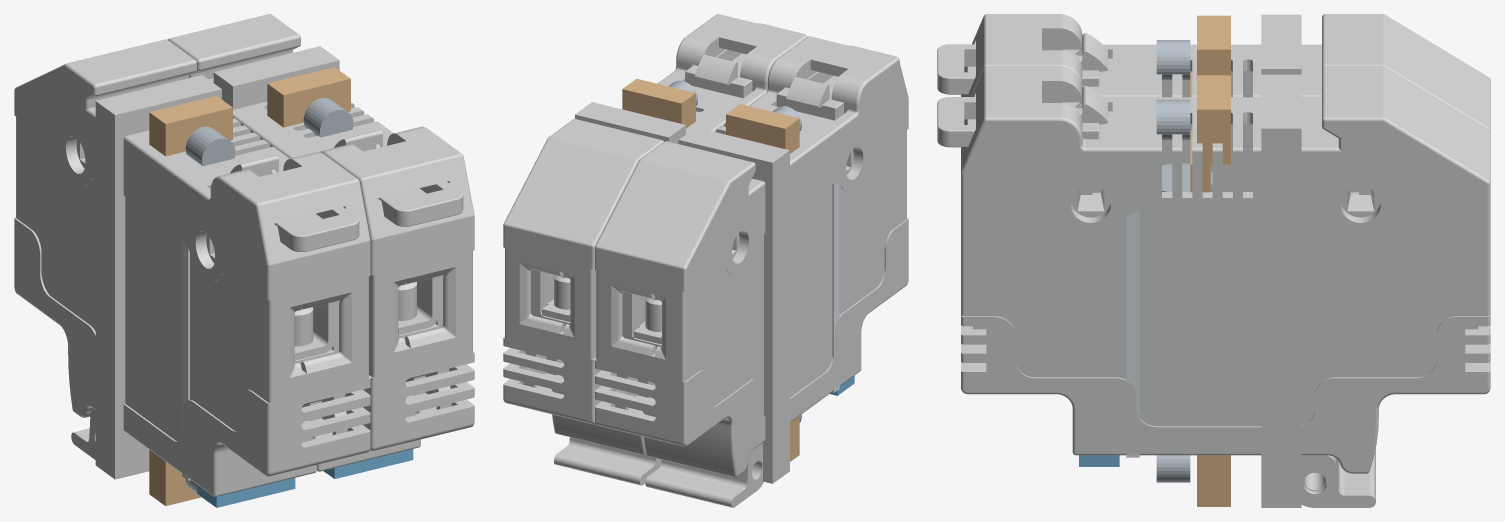
Rendered from model-c3744fbcb2e4.glb.
The picture shows the model from 3 angles, left to right: view 1: azimuth 30°, elevation 25°; view 2: azimuth 150°, elevation 25°; view 3: azimuth 270°, elevation 25°; orthographic projection. The views are drawn at different scales.
Visible parts, largest first — view 1: factory_021, factory_019, factory_001, housing_000, factory_003, housing_013, terminals_024, terminals_011, factory_022, factory_004, terminals_008, factory_023 (+9 smaller); view 2: factory_021, factory_019, factory_001, housing_000, factory_003, factory_020, factory_002, terminals_011, terminals_024, housing_013, factory_004, factory_022 (+5 smaller); view 3: factory_001, factory_019, housing_013, factory_003, factory_021, factory_002, factory_022, factory_004, terminals_024, carrier_014, housing_000, terminals_011 (+5 smaller).
Part boxes in pixels (left/top/right/bottom): factory_021: left=14, top=61, right=302, bottom=496; factory_019: left=76, top=39, right=370, bottom=494; factory_001: left=180, top=14, right=474, bottom=468; housing_000: left=95, top=75, right=221, bottom=479; factory_003: left=167, top=36, right=406, bottom=471; housing_013: left=213, top=46, right=339, bottom=109; terminals_024: left=267, top=67, right=350, bottom=127; terminals_011: left=149, top=96, right=232, bottom=156; factory_022: left=230, top=155, right=359, bottom=251; factory_004: left=334, top=130, right=463, bottom=226; terminals_008: left=149, top=450, right=201, bottom=505; factory_023: left=294, top=301, right=335, bottom=365; factory_021: left=654, top=55, right=908, bottom=477; factory_019: left=595, top=36, right=888, bottom=475; factory_001: left=503, top=14, right=796, bottom=452; housing_000: left=678, top=127, right=789, bottom=483; factory_003: left=562, top=33, right=806, bottom=454; factory_020: left=645, top=443, right=763, bottom=507; factory_002: left=554, top=437, right=661, bottom=485; terminals_011: left=726, top=104, right=799, bottom=153; terminals_024: left=622, top=78, right=695, bottom=128; housing_013: left=575, top=102, right=685, bottom=143; factory_004: left=685, top=23, right=807, bottom=98; factory_022: left=776, top=45, right=899, bottom=120; factory_001: left=961, top=71, right=1490, bottom=473; factory_019: left=961, top=19, right=1490, bottom=131; housing_013: left=1261, top=74, right=1301, bottom=507; factory_003: left=972, top=66, right=1490, bottom=345; factory_021: left=972, top=14, right=1490, bottom=97; factory_002: left=1301, top=450, right=1375, bottom=507; factory_022: left=937, top=33, right=1107, bottom=94; factory_004: left=937, top=86, right=1107, bottom=147; terminals_024: left=1197, top=75, right=1230, bottom=164; carrier_014: left=1126, top=211, right=1139, bottom=457; housing_000: left=1261, top=14, right=1301, bottom=74; terminals_011: left=1197, top=15, right=1230, bottom=75.
Bounding box in the file's own units: 0.04 × 0.065 × 0.082.
